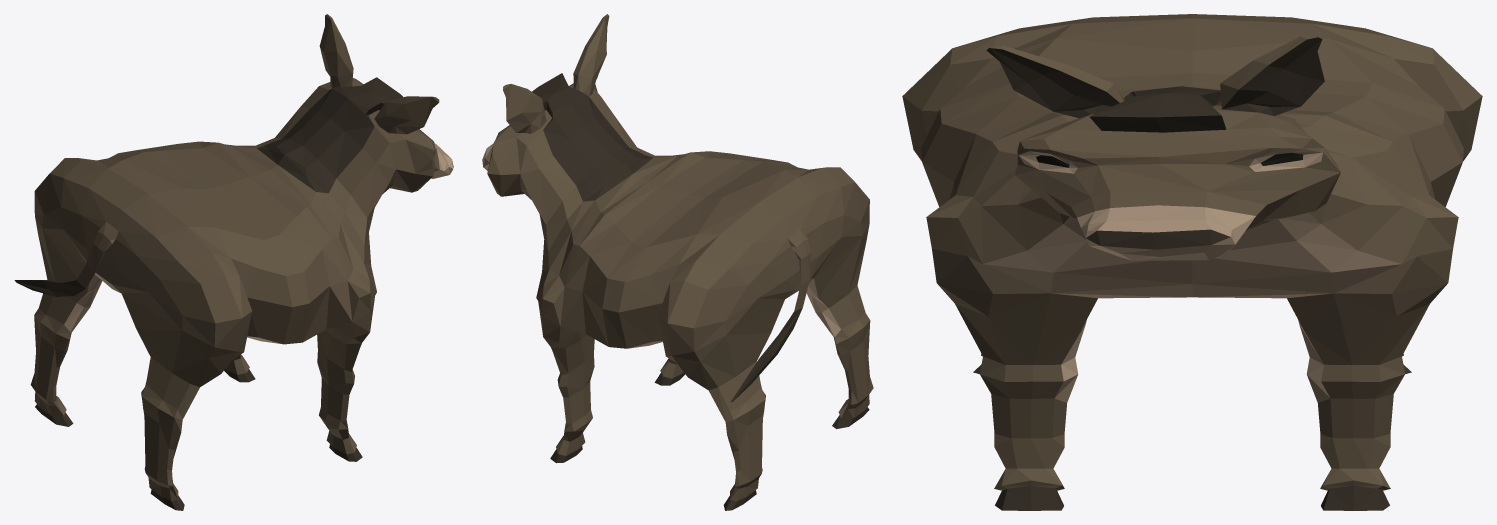
The model's file is donkey.glb.
3 renders of one model, left to right at view 1: azimuth 30°, elevation 25°; view 2: azimuth 150°, elevation 25°; view 3: azimuth 270°, elevation 25°, orthographic. The views are drawn at different scales.
Size of the model in its own units: 1 by 1 by 1.
